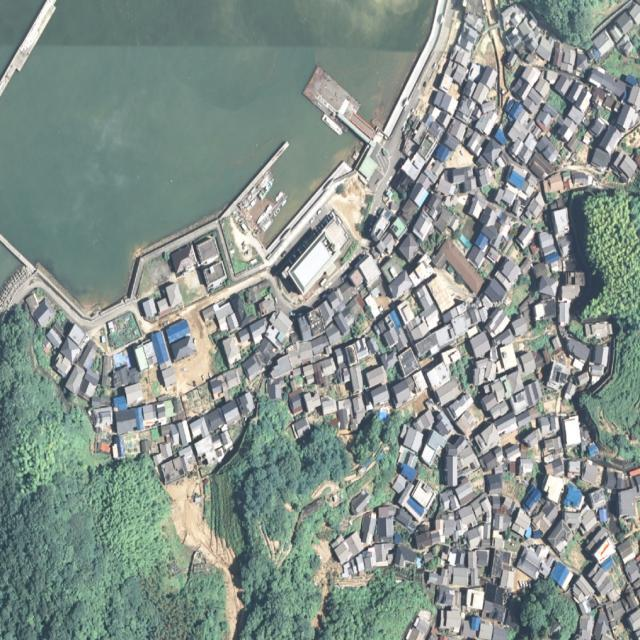landslide: (167, 477, 243, 639)
